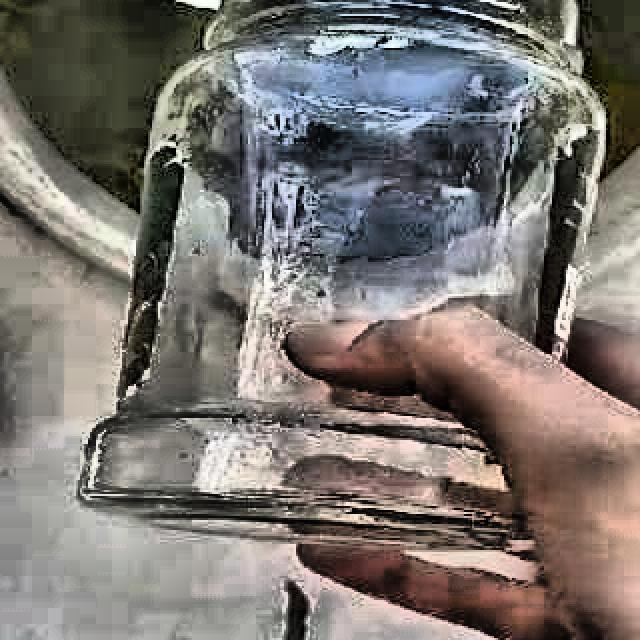glass: (80, 0, 608, 548)
